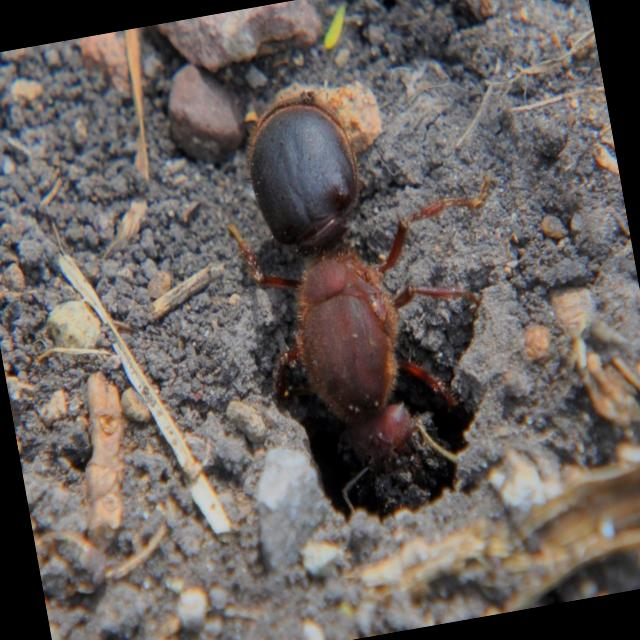Alive-Female-Dealate: (206, 61, 539, 525)
